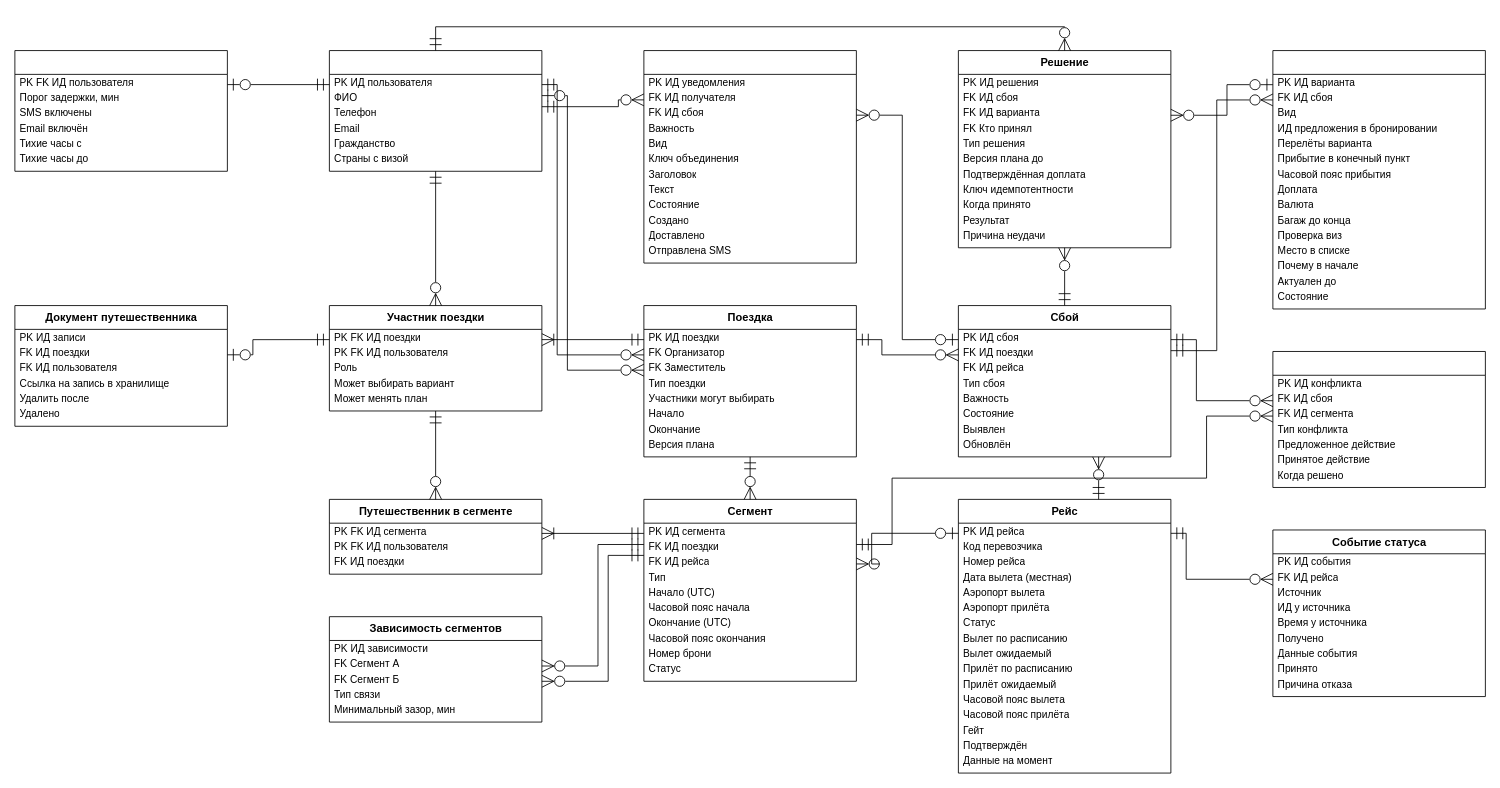
Image size: 1500x788. Some labels were removed from this diagram. Each missing label, with the box of its shape:
Альтернатива: (1272, 50, 1485, 309)
Конфликт плана: (1272, 351, 1485, 487)
Настройки уведомлений: (14, 50, 227, 171)
Пользователь: (329, 50, 542, 171)
Уведомление: (643, 50, 856, 263)
